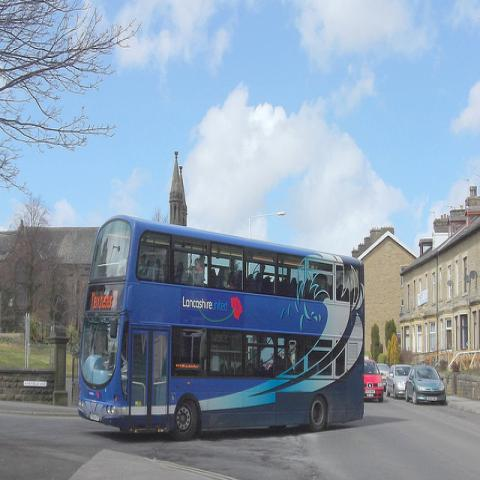bus: (73, 216, 366, 443)
car: (405, 366, 447, 404), (364, 360, 384, 403), (386, 365, 411, 398), (377, 363, 389, 389)
